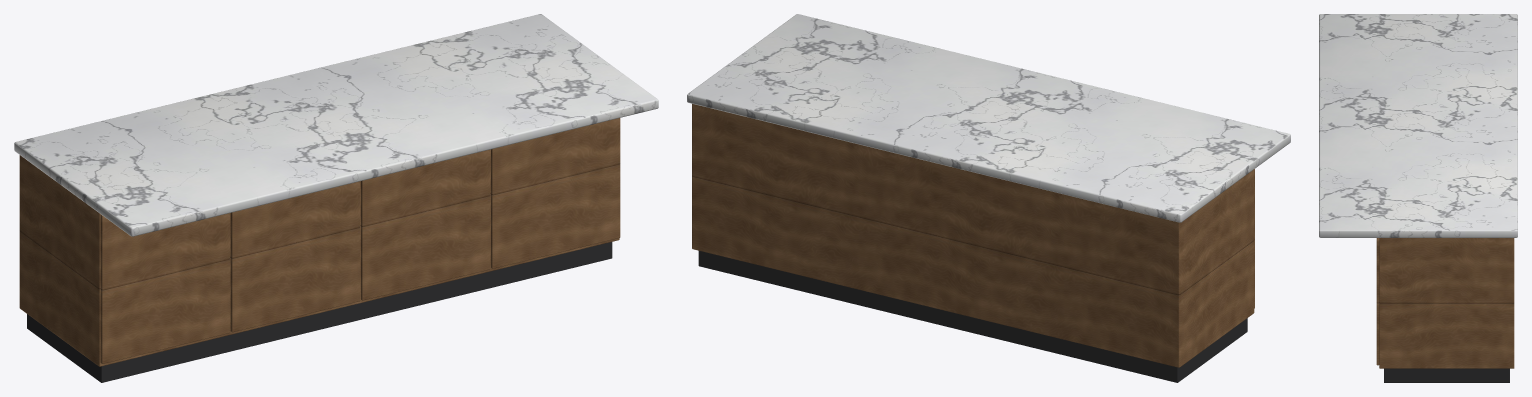
The model's file is kitchen_island.glb.
3 views of the same model, side by side, from view 1: azimuth 30°, elevation 25°; view 2: azimuth 150°, elevation 25°; view 3: azimuth 270°, elevation 25° (orthographic). The views are drawn at different scales.
Visible parts, largest first — view 1: kitchen_island; view 2: kitchen_island; view 3: kitchen_island.
Boxes of the visible parts, x1,y1,x2,y2 form: kitchen_island: [14, 14, 658, 382]; kitchen_island: [687, 14, 1290, 382]; kitchen_island: [1319, 14, 1517, 382].
Size of the model in its own units: 2.89 by 0.97 by 1.12.
Materials: 3 (2 with a texture image).
